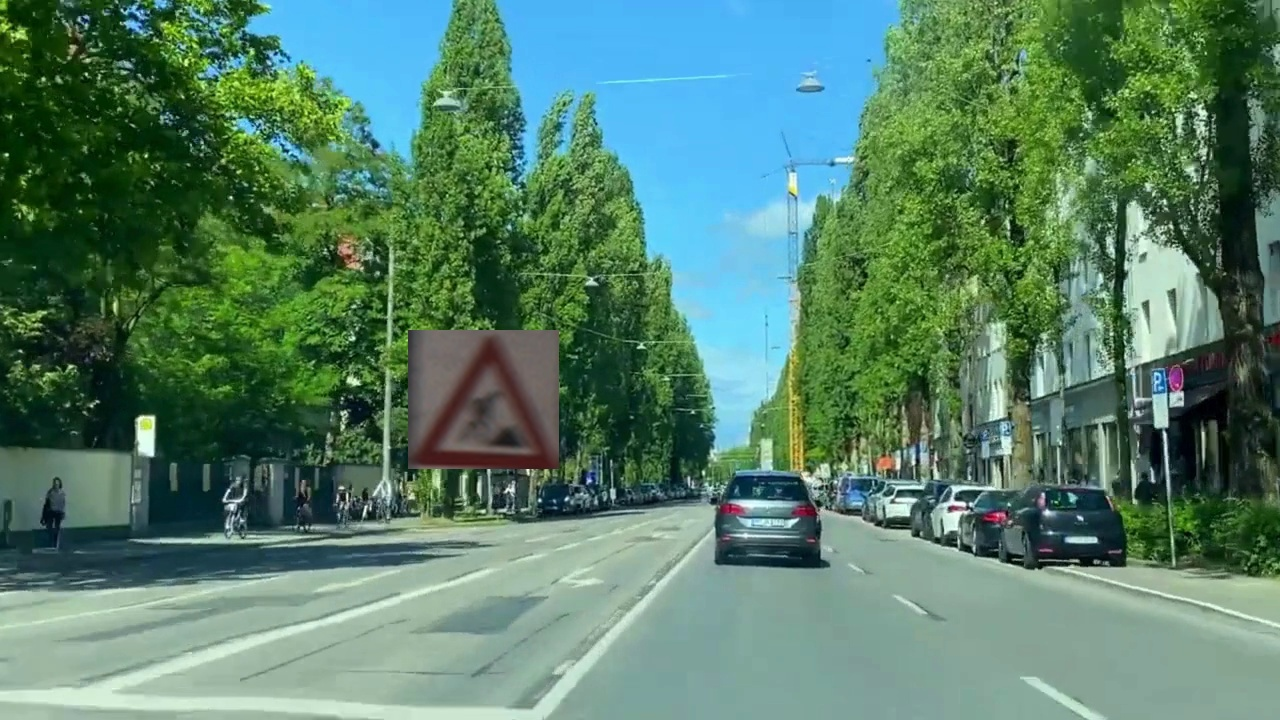Road work: (408, 330, 559, 469)
